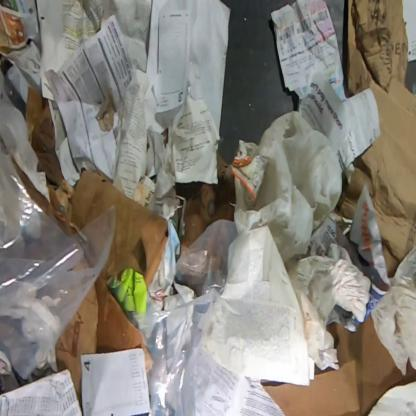cardboard: (9, 82, 169, 415), (338, 0, 415, 278), (326, 314, 415, 415), (178, 150, 236, 258), (262, 358, 361, 415), (352, 0, 393, 92)
soft_plastic: (0, 140, 116, 382), (124, 219, 241, 416), (258, 111, 344, 268)
